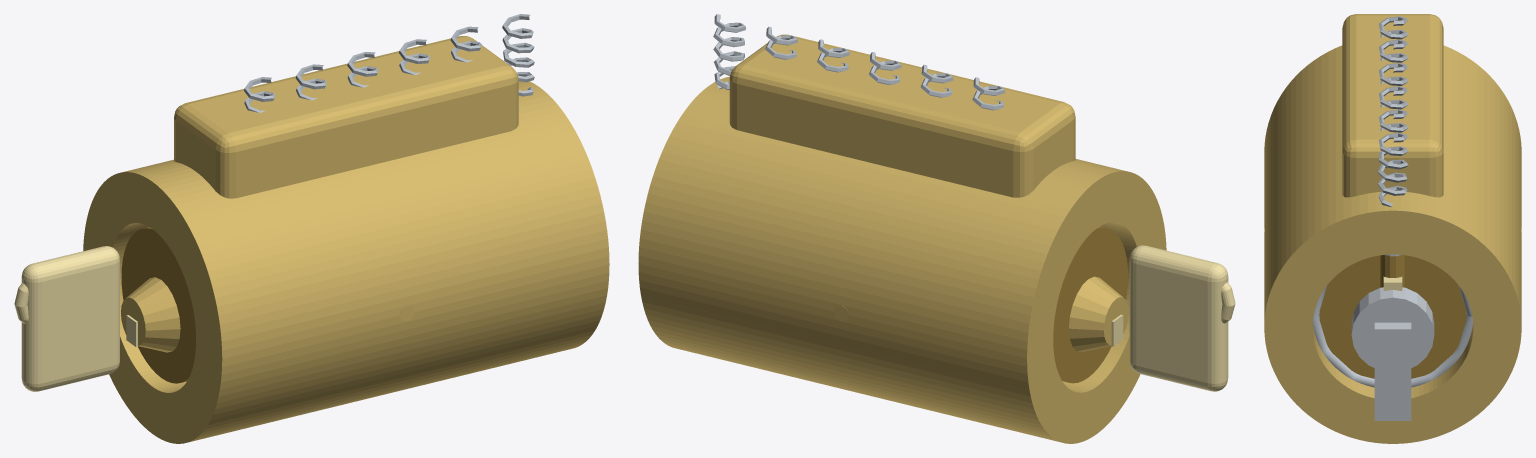
The model's file is lock.glb.
3 renders of one model, left to right at view 1: azimuth 30°, elevation 25°; view 2: azimuth 150°, elevation 25°; view 3: azimuth 270°, elevation 25°, orthographic. The views are drawn at different scales.
Visible parts, largest first — view 1: housing, key, plug, springs; view 2: housing, key, plug, springs; view 3: housing, plug, cam, springs, retaining_clip, key_pins, key.
Boxes of the visible parts, box(x1,y1,x2,y2) form: housing: box(83, 36, 609, 443); key: box(14, 246, 138, 391); plug: box(121, 227, 195, 383); springs: box(244, 14, 534, 112); housing: box(638, 34, 1166, 443); key: box(1110, 245, 1235, 391); plug: box(1053, 226, 1127, 383); springs: box(713, 14, 1004, 110); housing: box(1264, 14, 1521, 443); plug: box(1319, 255, 1466, 378); cam: box(1351, 287, 1434, 420); springs: box(1378, 16, 1408, 206); retaining_clip: box(1312, 285, 1473, 387); key_pins: box(1380, 255, 1405, 287); key: box(1383, 276, 1402, 290).
Size of the model in its own units: 1.29 by 0.7255 by 0.56.
